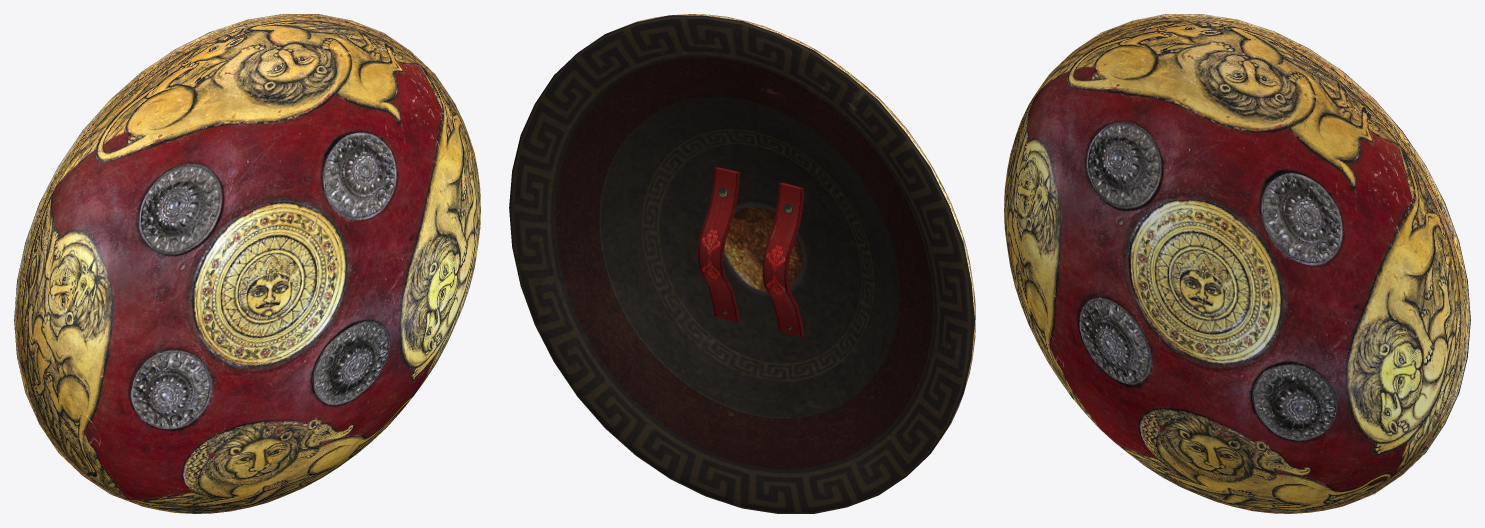
File: chakra.glb
The picture shows the model from 3 angles, left to right: view 1: azimuth 30°, elevation 25°; view 2: azimuth 150°, elevation 25°; view 3: azimuth 330°, elevation 25°; orthographic projection.
Visible parts, largest first — view 1: Shield; view 2: Shield; view 3: Shield.
Part boxes in pixels (<box>): Shield: <box>14,14,480,513</box>; Shield: <box>509,14,975,513</box>; Shield: <box>1004,14,1470,513</box>.
Size of the model in its own units: 161 by 161 by 18.33.
Materials: 1 (1 with a texture image).
